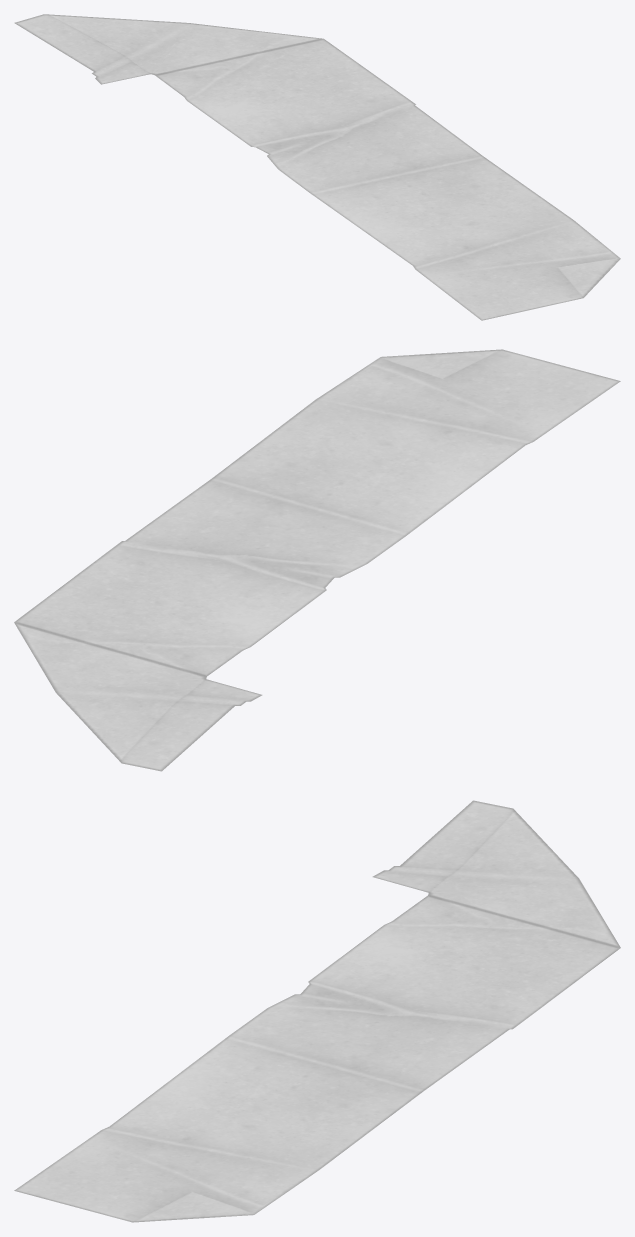
The model's file is Pfb_Canvas_Ground_1x5.fbx.
3 renders of one model, top to bottom at view 1: azimuth 30°, elevation 25°; view 2: azimuth 150°, elevation 25°; view 3: azimuth 330°, elevation 25°, orthographic. The views are drawn at different scales.
Parts seen in each view (by area): view 1: Mat_Canvas_Ground_Yellow; view 2: Mat_Canvas_Ground_Yellow; view 3: Mat_Canvas_Ground_Yellow.
Boxes of the visible parts, box(x1,y1,x2,y2) form: Mat_Canvas_Ground_Yellow: box(14, 14, 620, 320); Mat_Canvas_Ground_Yellow: box(14, 349, 620, 771); Mat_Canvas_Ground_Yellow: box(14, 800, 620, 1222).
Bounding box in the file's own units: 1.31 × 0.00538 × 4.43.
Materials: 1 (1 with a texture image).
